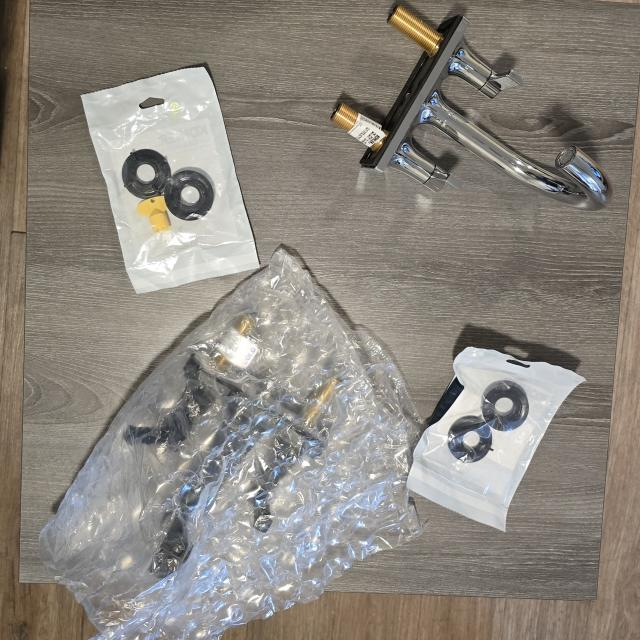10: (331, 5, 612, 210)
12: (81, 67, 259, 293)
13: (408, 347, 584, 531)
9c: (39, 249, 420, 640)
